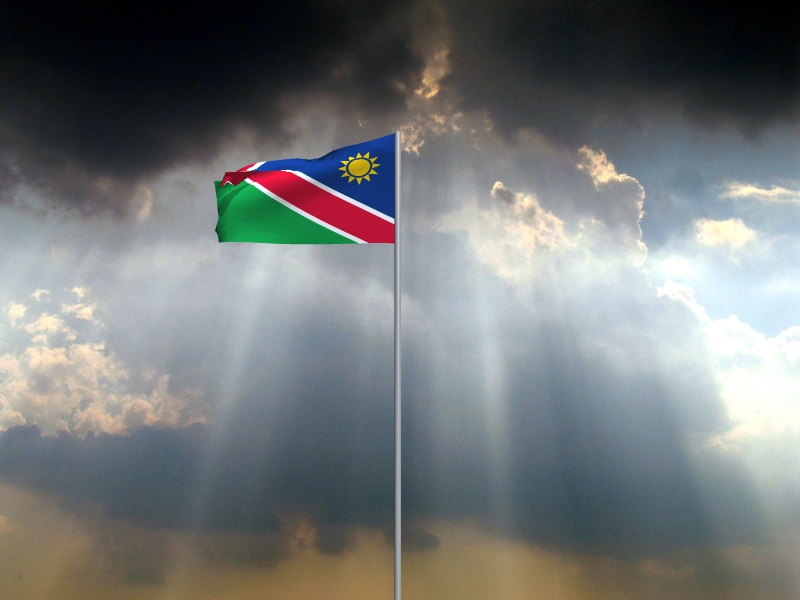na: (213, 133, 395, 244)
